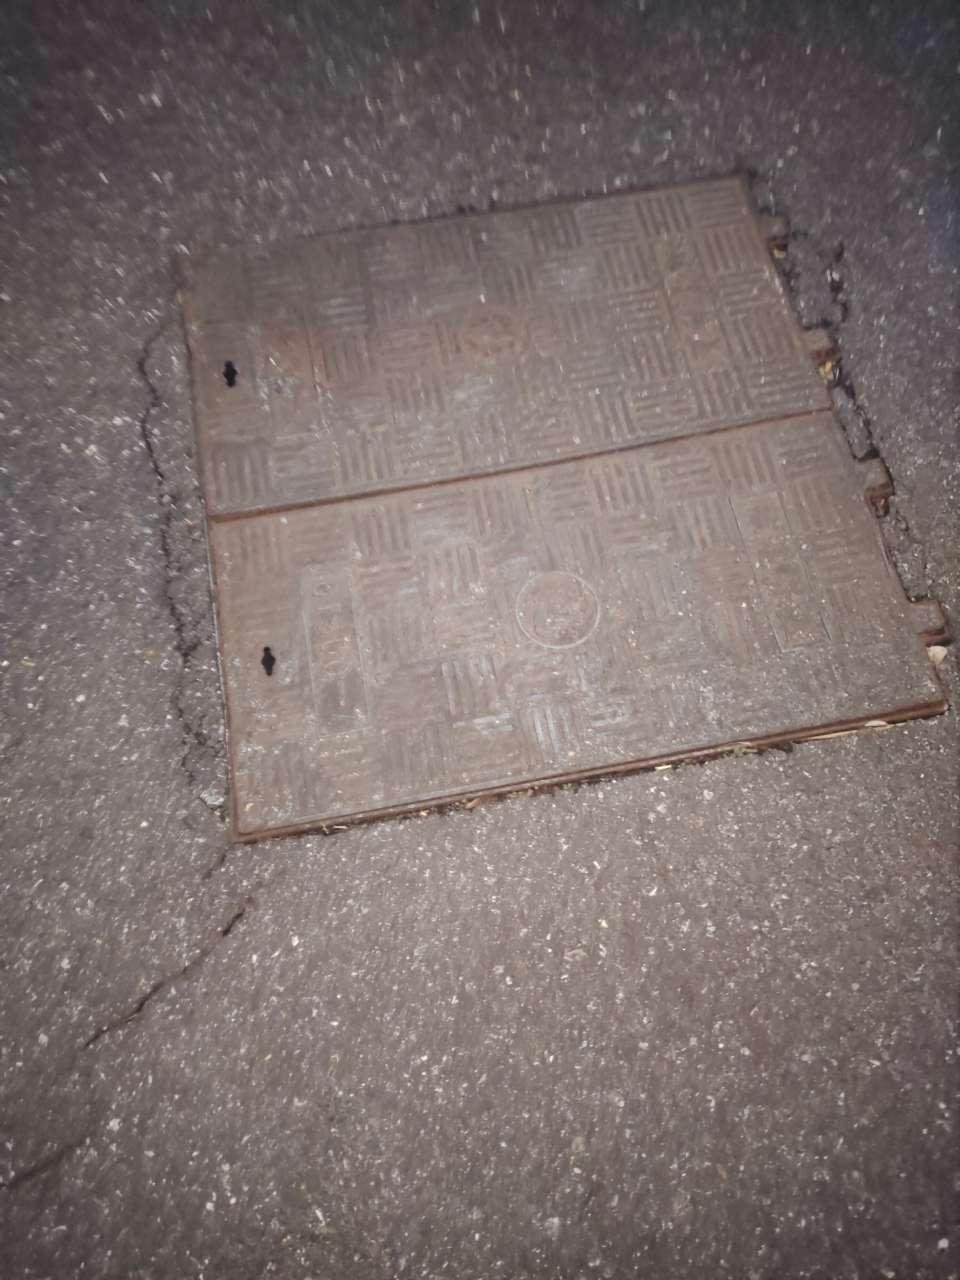wellcover: (145, 160, 960, 867)
